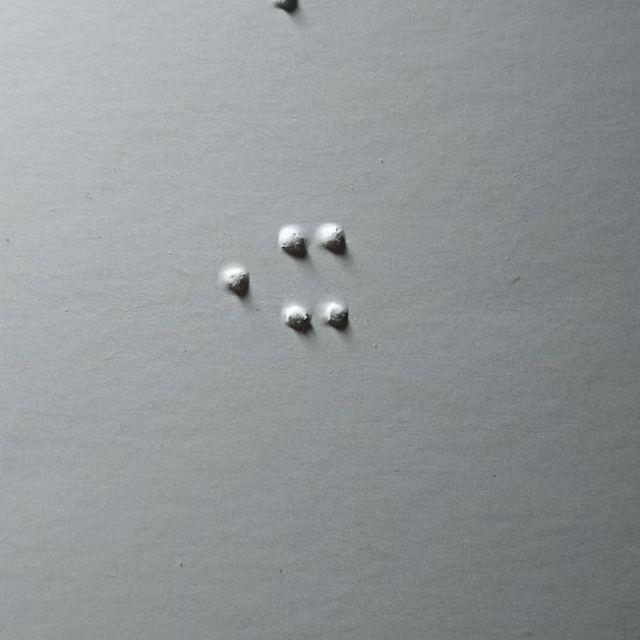dot_5: (178, 227, 250, 338)
eksamen: (278, 225, 350, 335)
